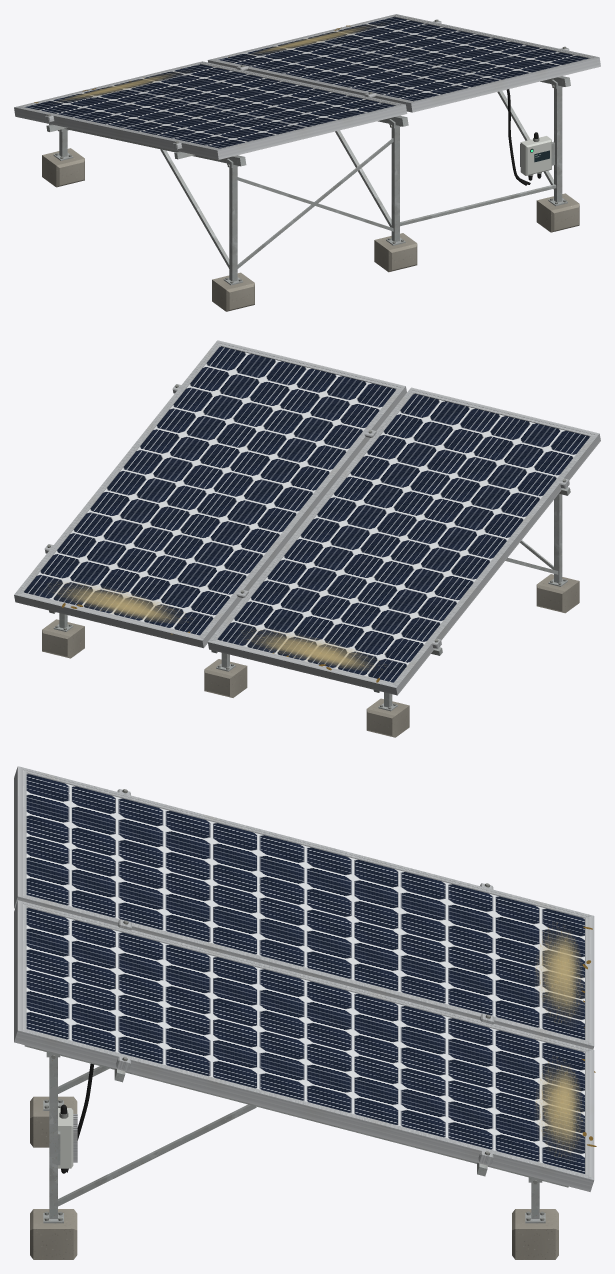
The model's file is SolarPanel.glb.
3 views of the same model, one above another, from view 1: azimuth 30°, elevation 25°; view 2: azimuth 150°, elevation 25°; view 3: azimuth 270°, elevation 25° (orthographic). The views are drawn at different scales.
Parts seen in each view (by area): view 1: SP_Cells_Cells, SP_Frame_Alu, SP_Rack_Galv, SP_Rack_Concrete, SP_Frame_Dust, SP_Controller_Enclosure; view 2: SP_Cells_Cells, SP_Frame_Alu, SP_Rack_Concrete, SP_Frame_Dust, SP_Rack_Galv; view 3: SP_Cells_Cells, SP_Frame_Alu, SP_Frame_Dust, SP_Rack_Concrete, SP_Rack_Galv, SP_Controller_Enclosure.
Boxes of the visible parts, <box> form: SP_Cells_Cells: <box>25,17,588,148</box>; SP_Frame_Alu: <box>14,14,600,159</box>; SP_Rack_Galv: <box>46,76,570,285</box>; SP_Rack_Concrete: <box>42,148,579,311</box>; SP_Frame_Dust: <box>57,24,373,102</box>; SP_Controller_Enclosure: <box>520,136,551,175</box>; SP_Cells_Cells: <box>23,346,589,682</box>; SP_Frame_Alu: <box>14,340,600,695</box>; SP_Rack_Concrete: <box>42,574,579,737</box>; SP_Frame_Dust: <box>50,582,385,670</box>; SP_Rack_Galv: <box>49,487,570,711</box>; SP_Cells_Cells: <box>26,773,584,1173</box>; SP_Frame_Alu: <box>14,766,594,1191</box>; SP_Frame_Dust: <box>535,923,582,1156</box>; SP_Rack_Concrete: <box>30,1096,558,1259</box>; SP_Rack_Galv: <box>24,1045,568,1223</box>; SP_Controller_Enclosure: <box>58,1108,73,1168</box>.
Size of what is drawn, in the model's own units: 7.5 by 3.08 by 6.85.
Materials: 19 (11 with a texture image).
